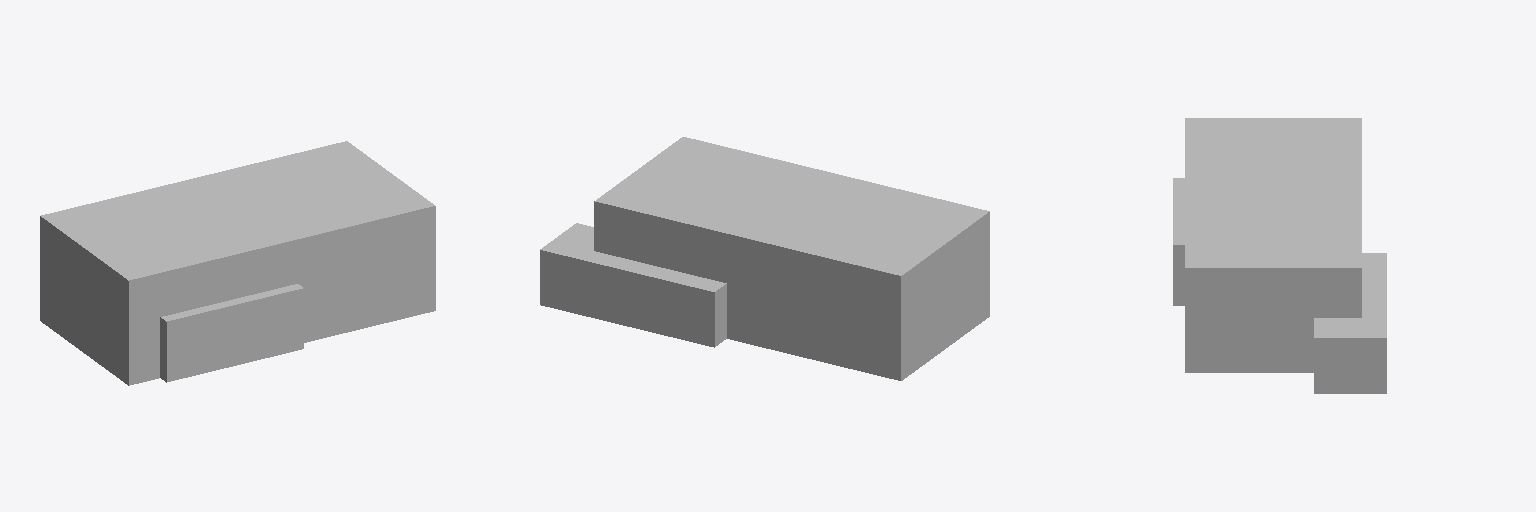
The model's file is Grama dos.obj.
3 views of the same model, side by side, from view 1: azimuth 30°, elevation 25°; view 2: azimuth 150°, elevation 25°; view 3: azimuth 270°, elevation 25° (orthographic).
Visible parts, largest first — view 1: object 1; view 2: object 1; view 3: object 1.
Boxes of the visible parts, <box> form: object 1: <box>40,141,435,385</box>; object 1: <box>540,137,989,380</box>; object 1: <box>1173,118,1386,393</box>.
Size of the model in its own units: 6.6 by 1.9 by 3.5.